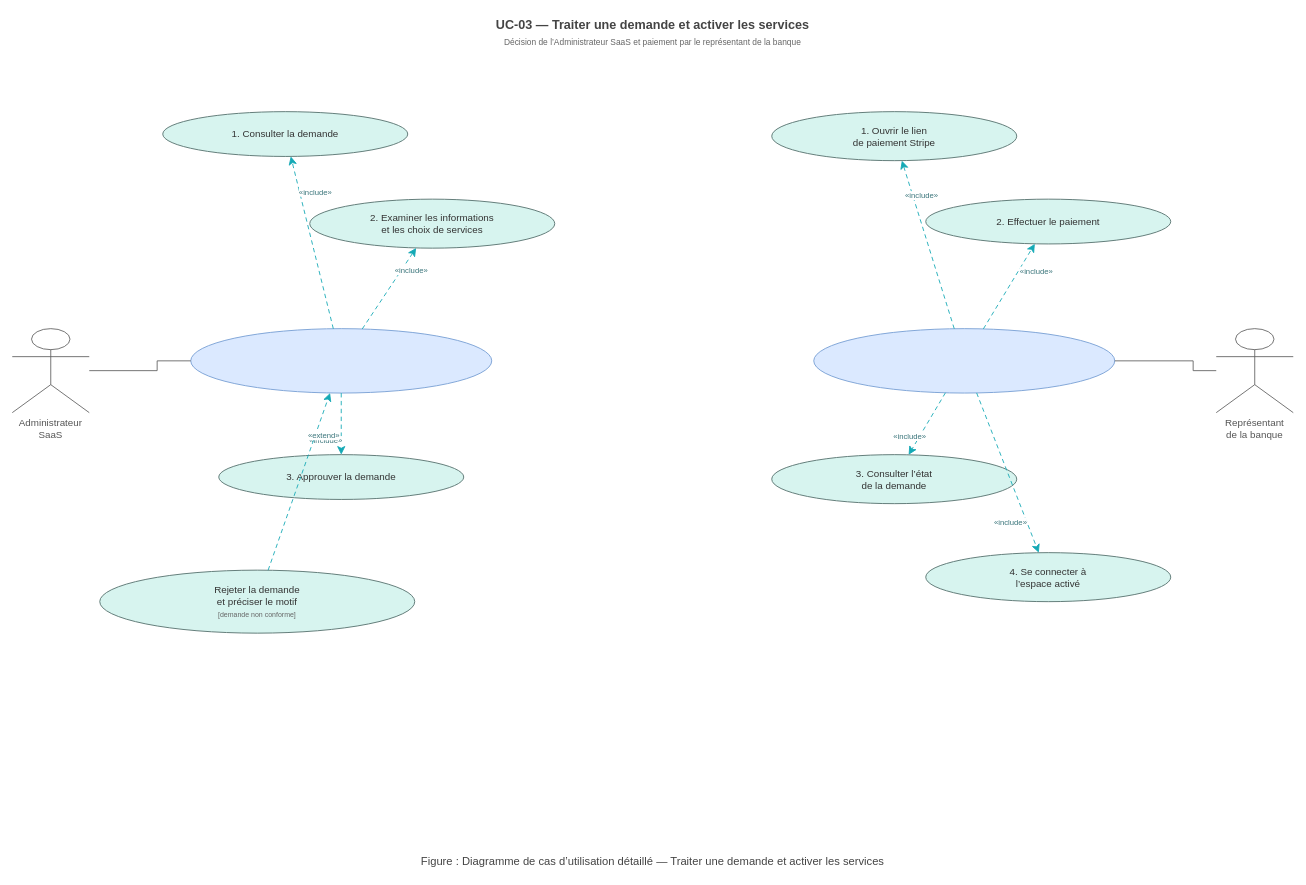
This 1306x885 diagram has some shape labels left out. The shapes that lost their labels are listed below. From the top down, each one's box as (x1, y1, x2, y2) in pixels, then its label:
(190, 328, 492, 393): Traiter la demande
(813, 328, 1115, 393): Régler les services
